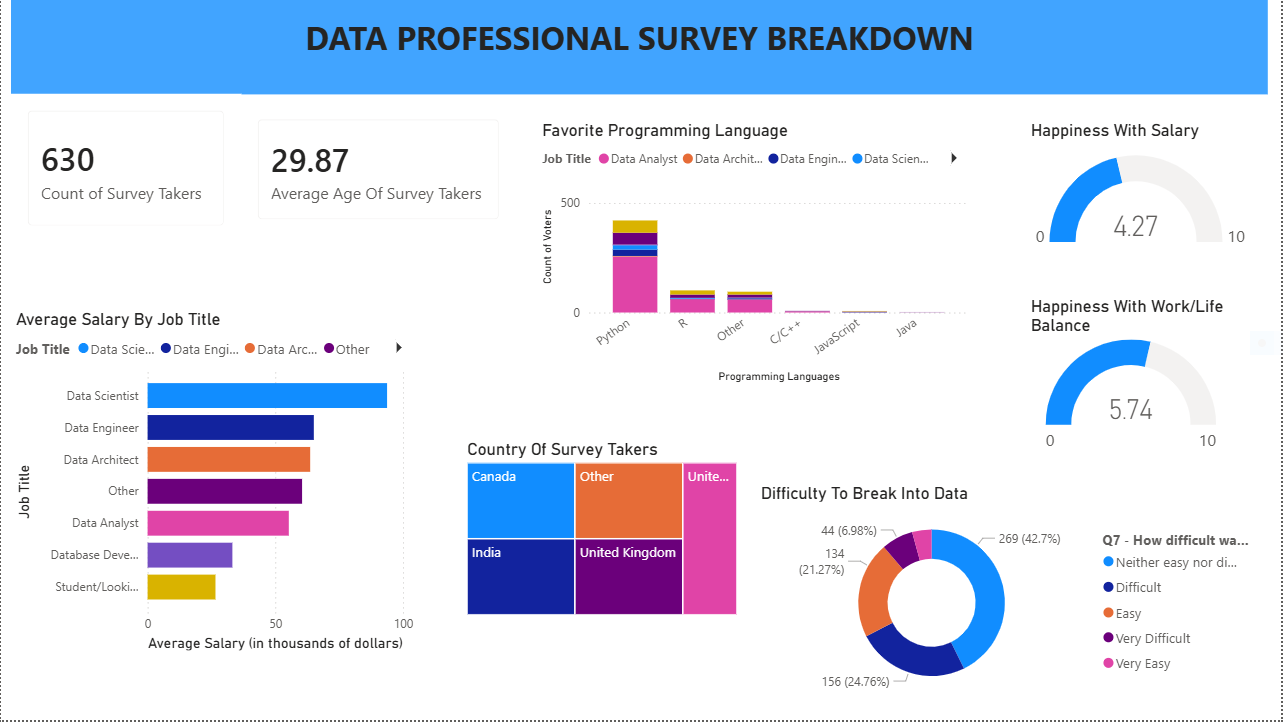

This screenshot's page, from the dashboard's own definition file:
{"tool":"powerbi","page":{"name":"Page 1","canvas":[1280,720],"ordinal":0},"visuals":[{"type":"textbox","title":"DATA PROFESSIOB","box":[9.6,0,1257,94.4],"z":0},{"type":"cardVisual","fields":{"Data":["Count(Data Professional Survey.Unique ID)"]},"box":[10.3,94.1,230.8,149.9],"z":1000},{"type":"cardVisual","fields":{"Data":["Avg(Data Professional Survey.Q10 - Current Age)"]},"box":[240.6,102.9,275.4,134.8],"z":2000},{"type":"barChart","title":"Average Salary By Job Title","fields":{"Category":["Data Professional Survey.Q1 - Which Title Best Fits your Current Role?.1"],"Y":["Avg(Data Professional Survey.Average Salary)"],"Series":["Data Professional Survey.Q1 - Which Title Best Fits your Current Role?.1"]},"box":[10.3,308.7,407.2,346.9],"z":3000},{"type":"columnChart","title":"Favorite Programming Language","fields":{"Category":["Data Professional Survey.Q5 - Favorite Programming Language.1"],"Y":["CountNonNull(Data Professional Survey.Unique ID)"],"Series":["Data Professional Survey.Q1 - Which Title Best Fits your Current Role?.1"]},"box":[536.5,120.5,436.6,267.5],"z":4000},{"type":"treemap","title":"Country Of Survey Takers","fields":{"Group":["Data Professional Survey.Q11 - Which Country do you live in?.1"],"Values":["Count(Data Professional Survey.Q11 - Which Country do you live in?.1)"]},"box":[460.9,439.1,279.7,181.2],"z":5000},{"type":"gauge","title":"Happiness With Salary","fields":{"Y":["Avg(Data Professional Survey.Q6 - How Happy are you in your Current Position with the following? (Salary))"],"MinValue":["Min(Data Professional Survey.Q6 - How Happy are you in your Current Position with the following? (Salary))1"],"MaxValue":["Max(Data Professional Survey.Q6 - How Happy are you in your Current Position with the following? (Salary))2"]},"box":[1024.6,120.3,229,143.5],"z":6000},{"type":"gauge","title":"Happiness With Work/Life Balance","fields":{"Y":["Avg(Data Professional Survey.Q6 - How Happy are you in your Current Position with the following? (Work/Life Balance))"],"MinValue":["Min(Data Professional Survey.Q6 - How Happy are you in your Current Position with the following? (Work/Life Balance))"],"MaxValue":["Max(Data Professional Survey.Q6 - How Happy are you in your Current Position with the following? (Work/Life Balance))"]},"box":[1024.6,295.7,210.1,165.2],"z":7000},{"type":"donutChart","title":"Difficulty To Break Into Data","fields":{"Category":["Data Professional Survey.Q7 - How difficult was it for you to break into Data?"],"Y":["CountNonNull(Data Professional Survey.Average Salary)"]},"box":[755.1,482.6,498.6,221.7],"z":8000}]}

Visuals, with their boxes in screenshot pixels (x1, y1, x2, y2), scaled from the page's 1280x720 canvas onto the 1283x722 screenshot:
"DATA PROFESSIOB" textbox: <bbox>10, 0, 1270, 95</bbox>
cardVisual - Count(Data Professional Survey.Unique ID): <bbox>10, 94, 242, 245</bbox>
cardVisual - Avg(Data Professional Survey.Q10 - Current Age): <bbox>241, 103, 517, 238</bbox>
"Average Salary By Job Title" barChart: <bbox>10, 310, 418, 657</bbox>
"Favorite Programming Language" columnChart: <bbox>538, 121, 975, 389</bbox>
"Country Of Survey Takers" treemap: <bbox>462, 440, 742, 622</bbox>
"Happiness With Salary" gauge: <bbox>1027, 121, 1257, 265</bbox>
"Happiness With Work/Life Balance" gauge: <bbox>1027, 297, 1238, 462</bbox>
"Difficulty To Break Into Data" donutChart: <bbox>757, 484, 1257, 706</bbox>
